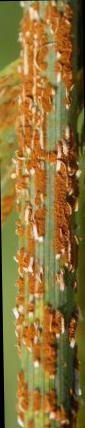Wheat: (22, 3, 76, 426)
